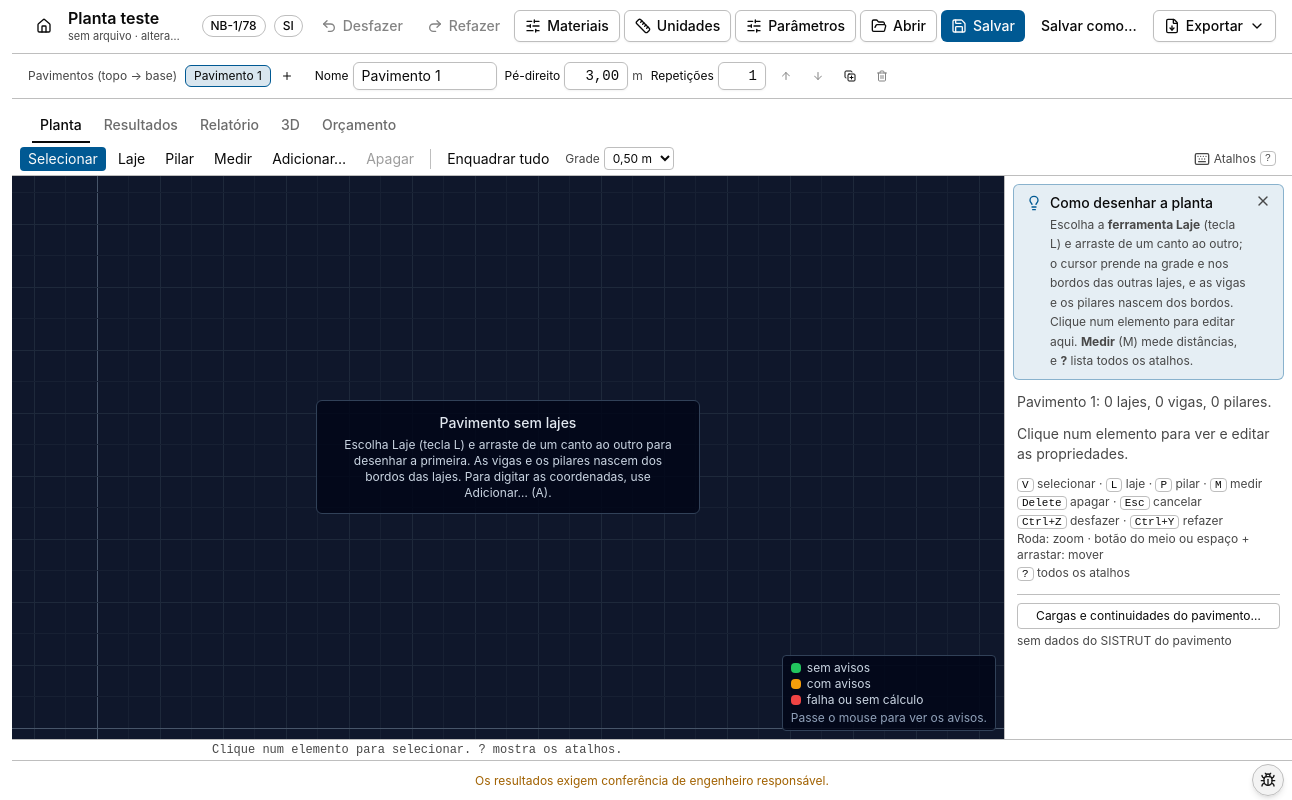
Test: ferramentas do editor › a dica de primeiro uso da planta fecha e não volta
The width and height of the screenshot is (1292, 800).
Check: the element "Como desenhar a planta" is shown, box [1013,184,1284,380]
Click the button named "Fechar a dica \"Como desenhar a planta\"": (1263, 200) [1251,188,1275,212]
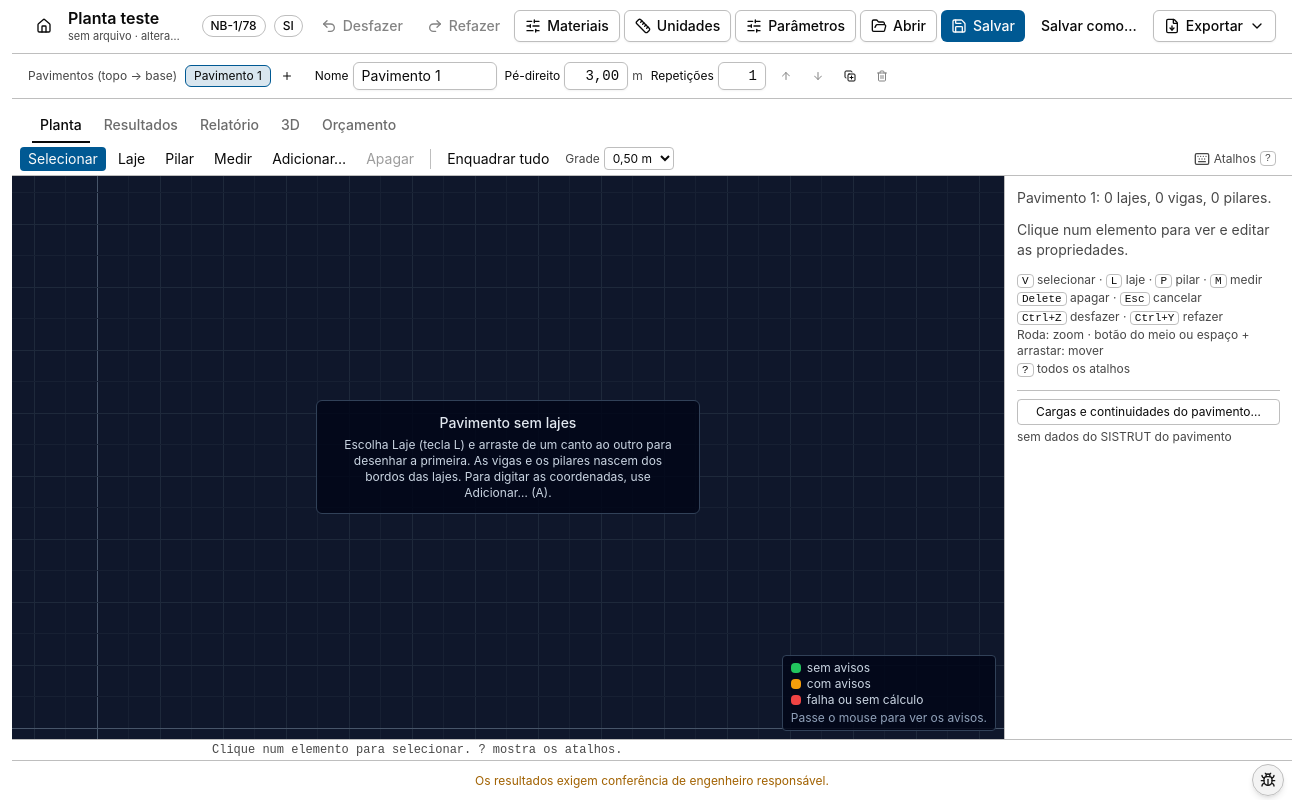
Check: the text "Como desenhar a planta" is gone
